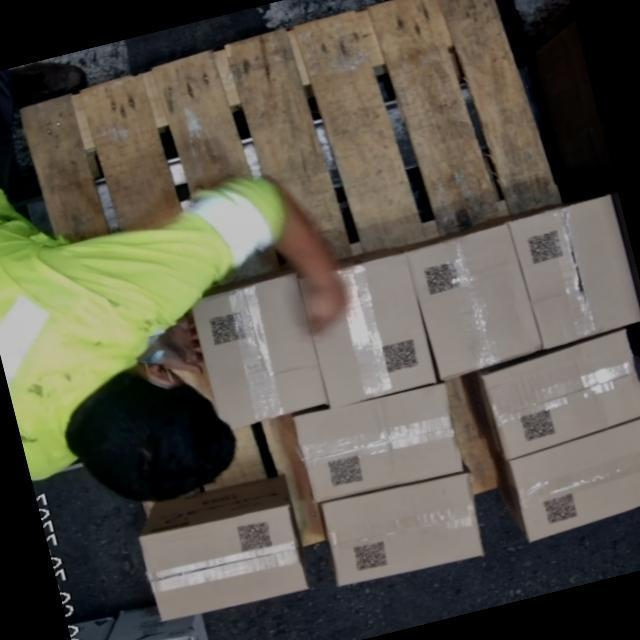box: (289, 378, 463, 505), (134, 498, 306, 625), (294, 250, 434, 406), (186, 274, 325, 430), (474, 328, 640, 458), (316, 466, 487, 589), (404, 224, 538, 378), (506, 195, 638, 345), (504, 413, 640, 544)
